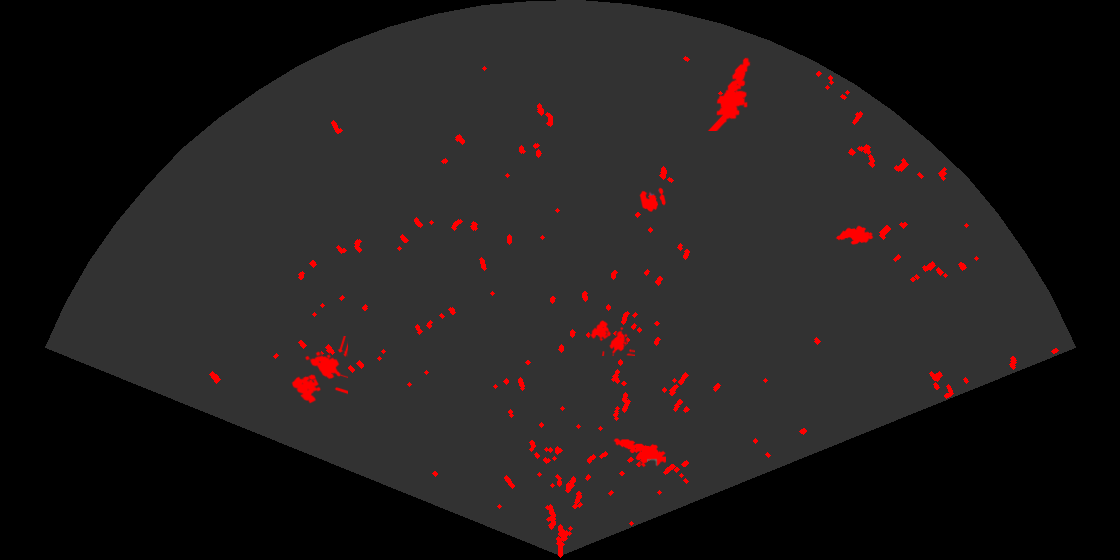AUV: (834, 224, 875, 246)
ball: (638, 186, 667, 213)
cage: (290, 336, 348, 405), (589, 318, 635, 356)
frogman: (706, 56, 752, 131), (612, 437, 666, 469)
